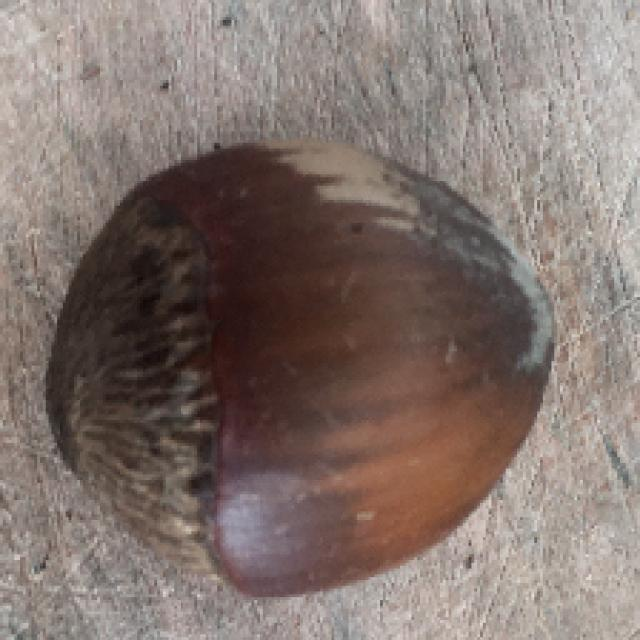damagedHazelnut: (44, 136, 568, 594)
